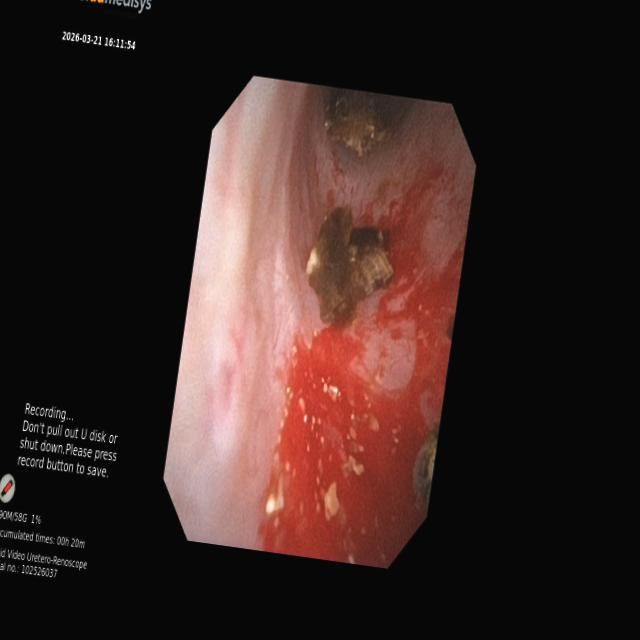stone-new: (306, 208, 393, 325), (325, 88, 390, 157), (413, 426, 438, 507)
